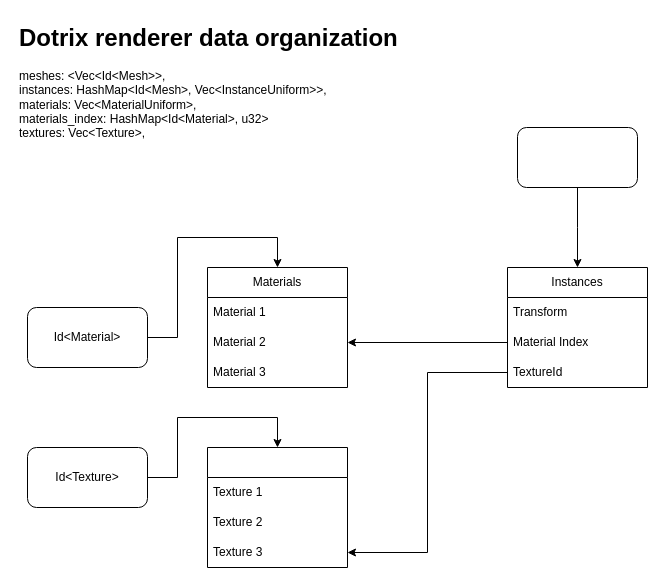
This 665x585 diagram has some shape labels left out. Each missing label, with the box of its shape:
Id<Mesh>: (516, 126, 638, 188)
Textures: (206, 446, 348, 568)
